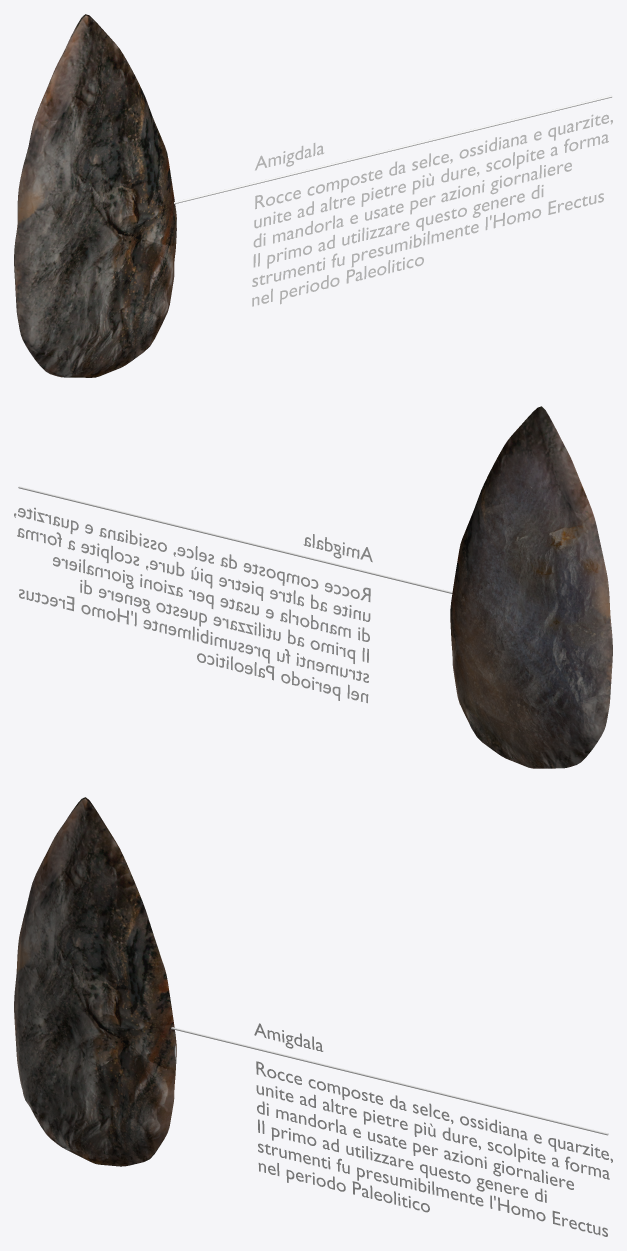
The model's file is Amigdala.gltf.
3 renders of one model, top to bottom at view 1: azimuth 30°, elevation 25°; view 2: azimuth 150°, elevation 25°; view 3: azimuth 330°, elevation 25°, orthographic.
Visible parts, largest first — view 1: Superficie_di_Suddivisione, Text, riga; view 2: Superficie_di_Suddivisione, Text, riga; view 3: Superficie_di_Suddivisione, Text, riga.
Part boxes in pixels (bbox=[...]): Superficie_di_Suddivisione: bbox=[14, 14, 176, 377]; Text: bbox=[252, 114, 612, 306]; riga: bbox=[174, 95, 612, 204]; Superficie_di_Suddivisione: bbox=[450, 406, 612, 768]; Text: bbox=[14, 507, 372, 703]; riga: bbox=[18, 486, 452, 593]; Superficie_di_Suddivisione: bbox=[14, 797, 176, 1166]; Text: bbox=[254, 1023, 612, 1236]; riga: bbox=[171, 1027, 608, 1135].
Bounding box in the file's own units: 6.31 × 3.68 × 0.3705.
Materials: 2 (1 with a texture image).
